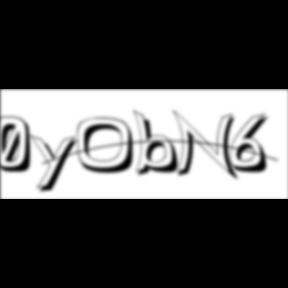0: (1, 115, 40, 174)
6: (230, 112, 276, 176)
N: (173, 109, 243, 183)
O: (76, 117, 142, 176)
b: (134, 109, 186, 179)
y: (29, 132, 83, 196)
